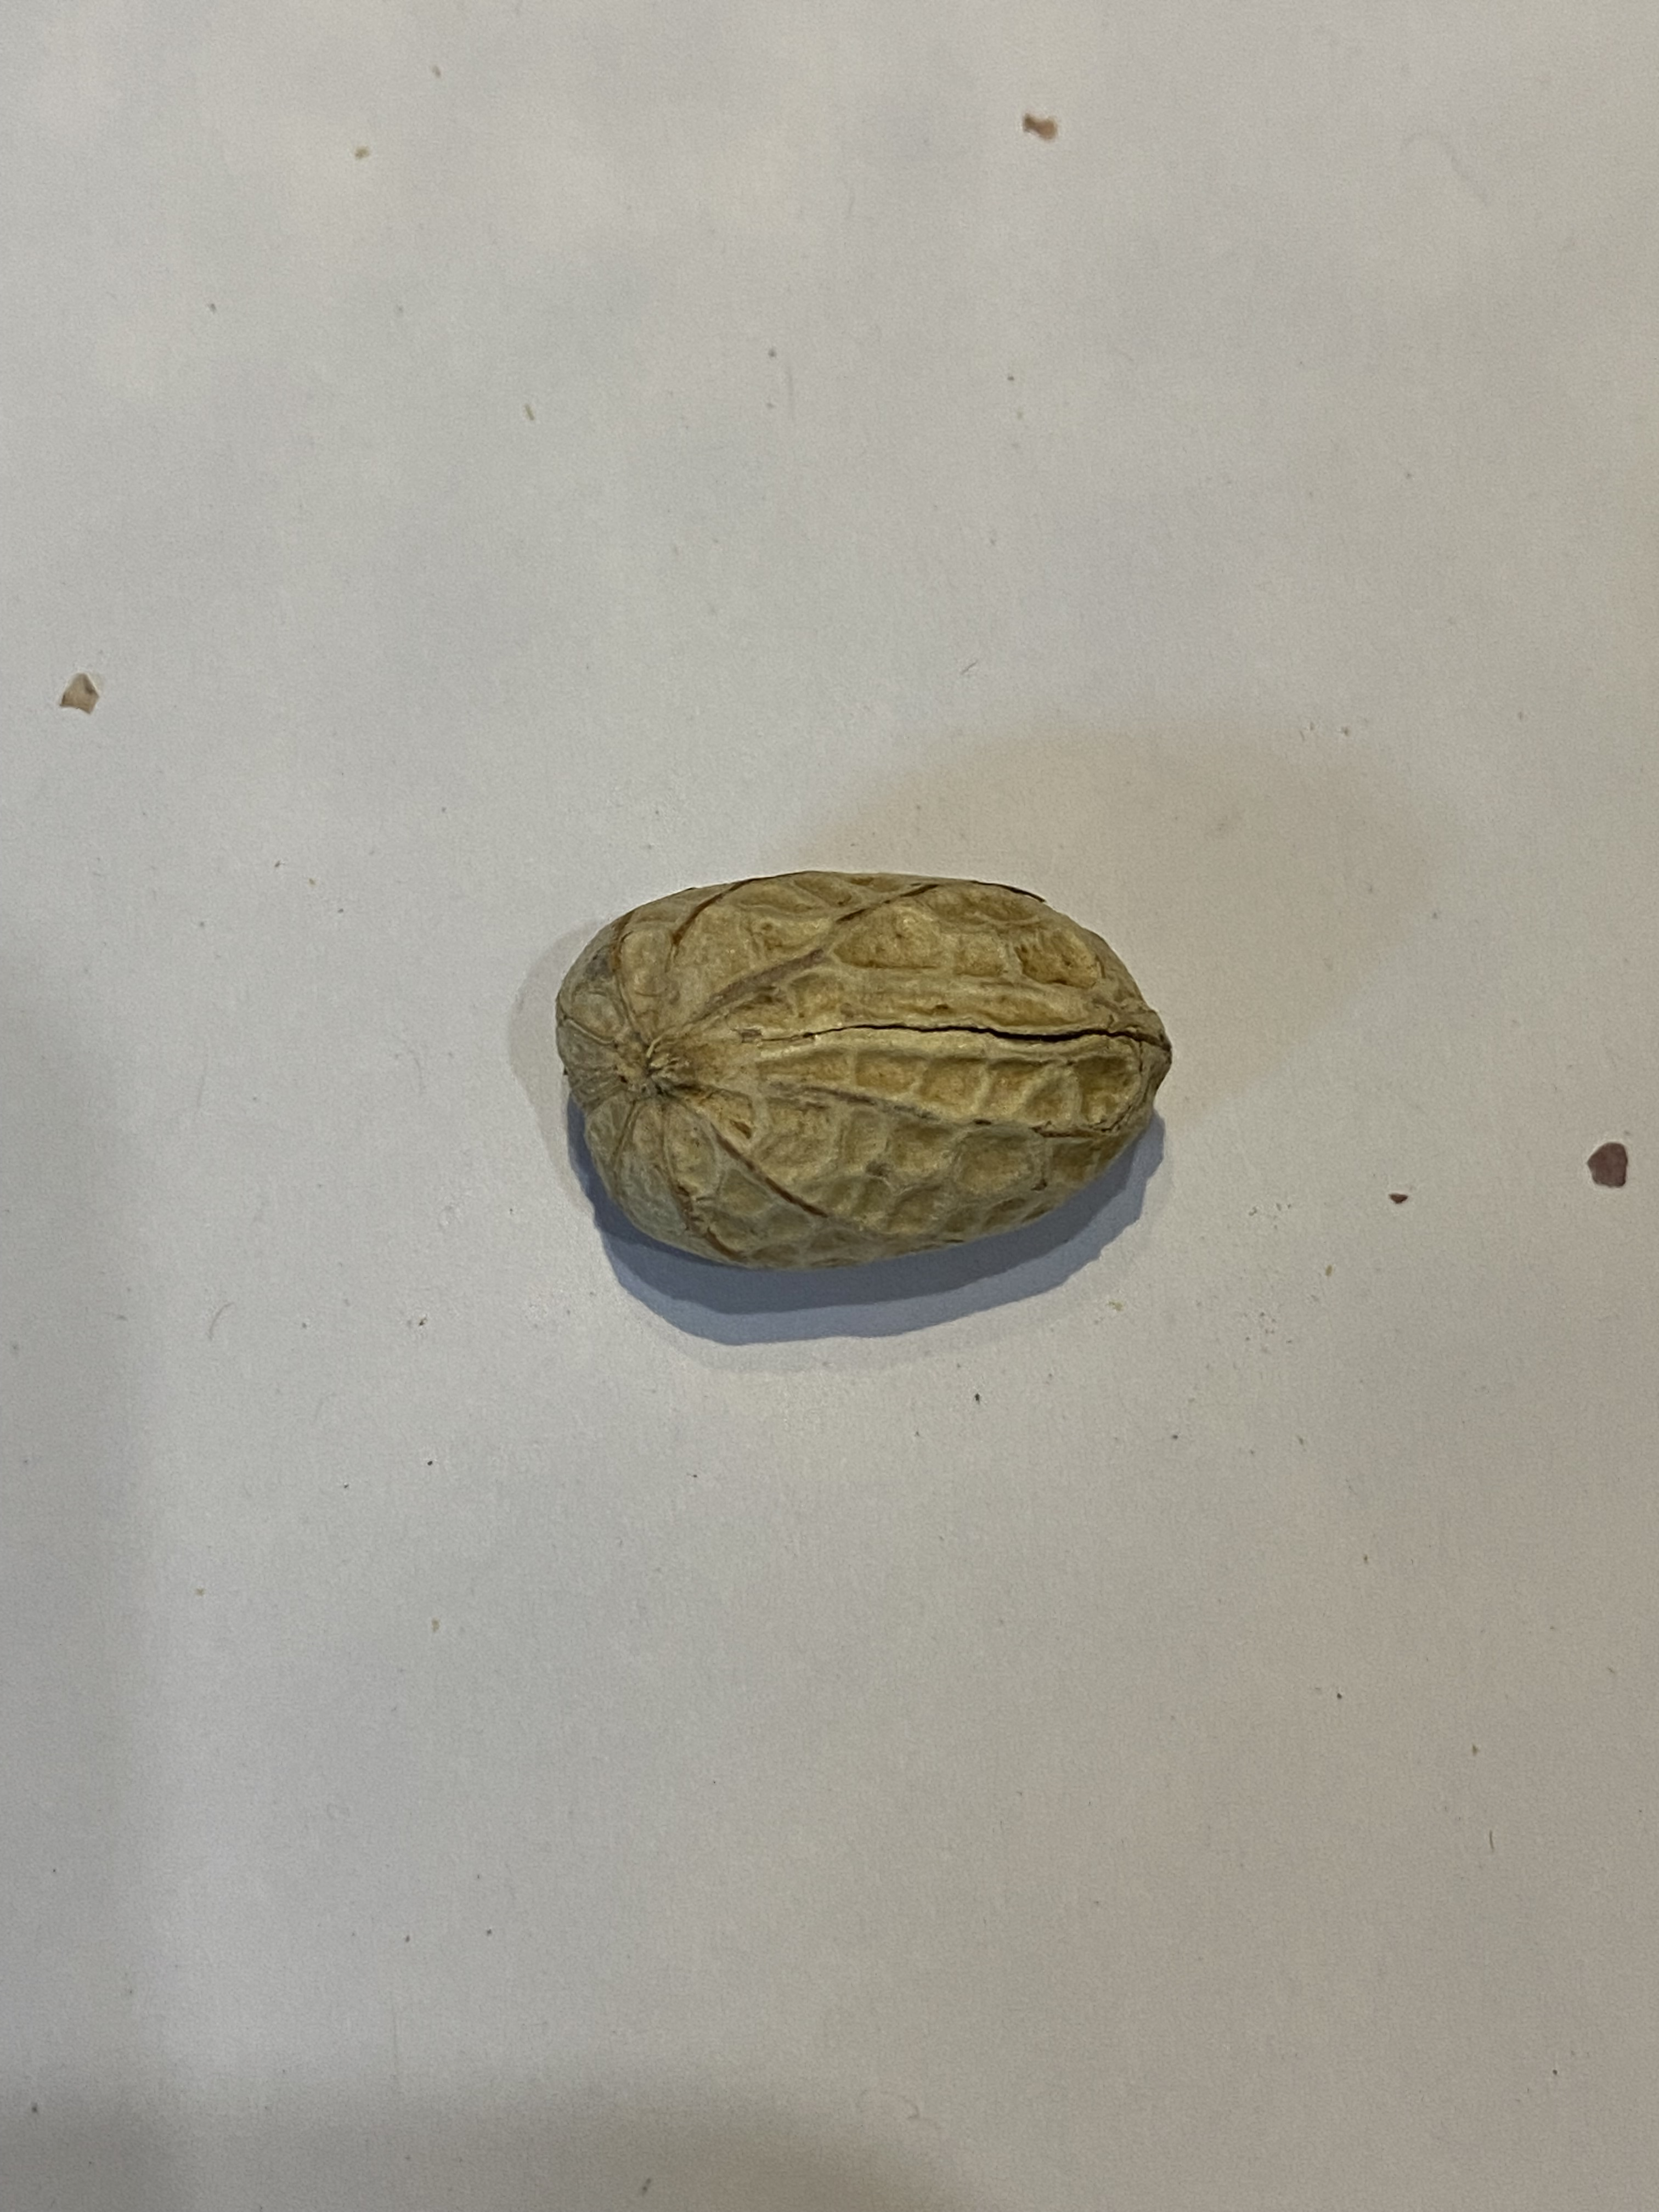kacang1: (523, 848, 1229, 1284)
